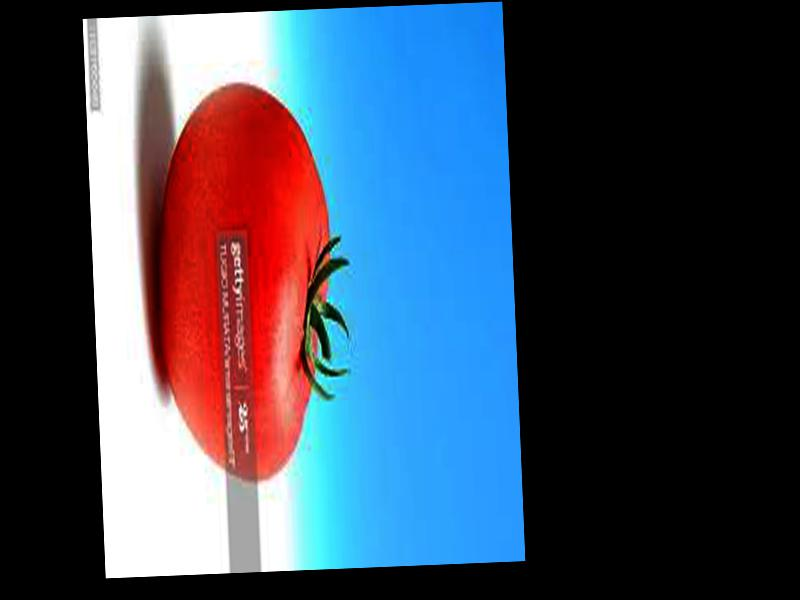Tomato: (152, 82, 338, 487)
